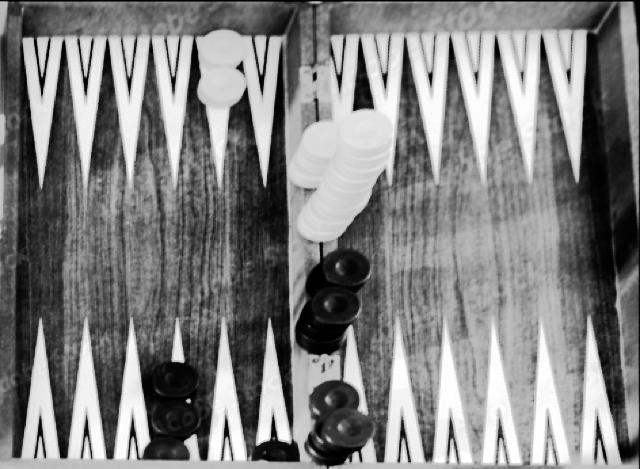bar: (296, 21, 334, 119), (297, 353, 347, 383)
board: (10, 16, 628, 466)
dark_p: (310, 285, 368, 331), (307, 378, 364, 419), (321, 407, 374, 448), (149, 400, 202, 439), (151, 361, 200, 401), (322, 249, 372, 286), (139, 437, 196, 460), (247, 441, 297, 461)
light_p: (340, 109, 394, 153), (196, 65, 246, 108), (198, 25, 247, 68), (303, 122, 342, 159)
